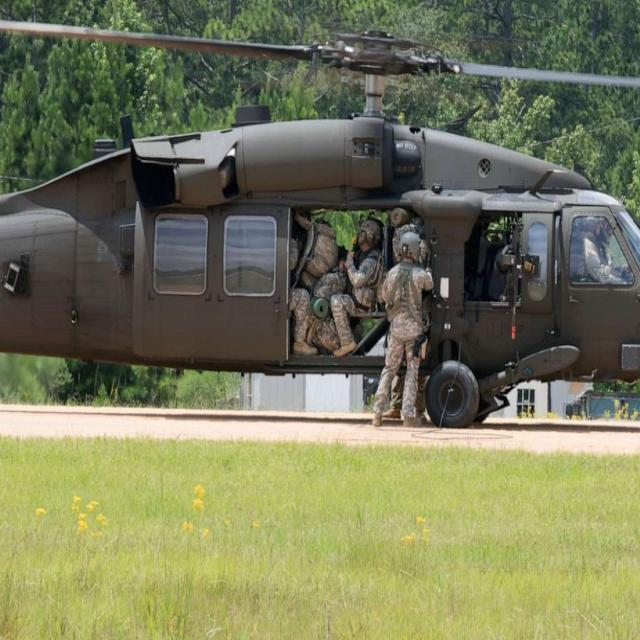helicopter: (1, 22, 640, 444)
